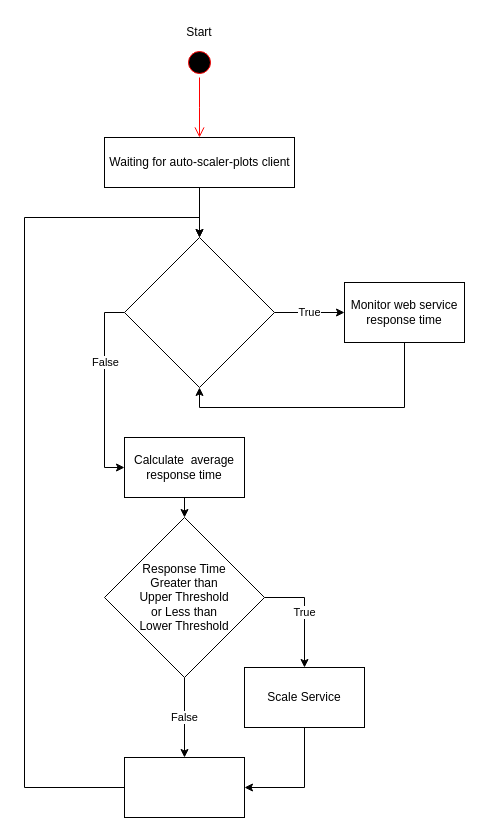
Some shapes in this 482 by 835 pixel diagram are drawn without their labels. Here are the shapes that lost their labels. From the top down, the centre of each, then its label:
[199,312]: Monitoring Time less than Monitoring interval
[184,787]: Update Plot Data
